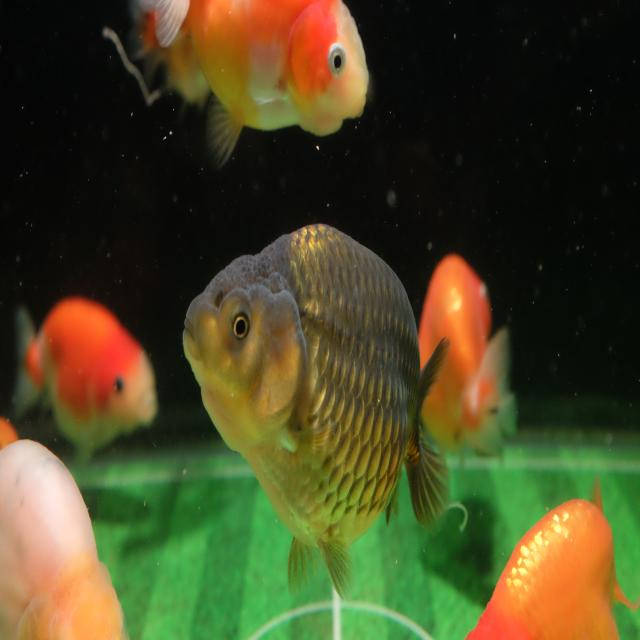Tilapia: (182, 222, 452, 608), (132, 0, 372, 169), (463, 473, 640, 640), (0, 436, 133, 640), (10, 295, 157, 473), (414, 249, 520, 464)
